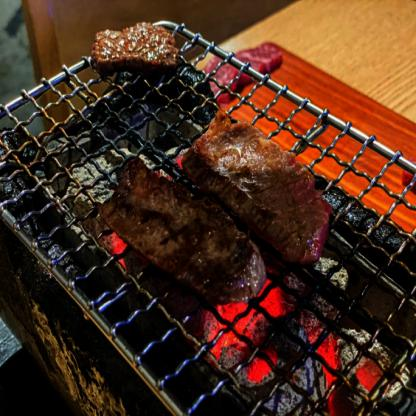Carne: (105, 153, 261, 318), (183, 103, 331, 272), (89, 17, 178, 70)
